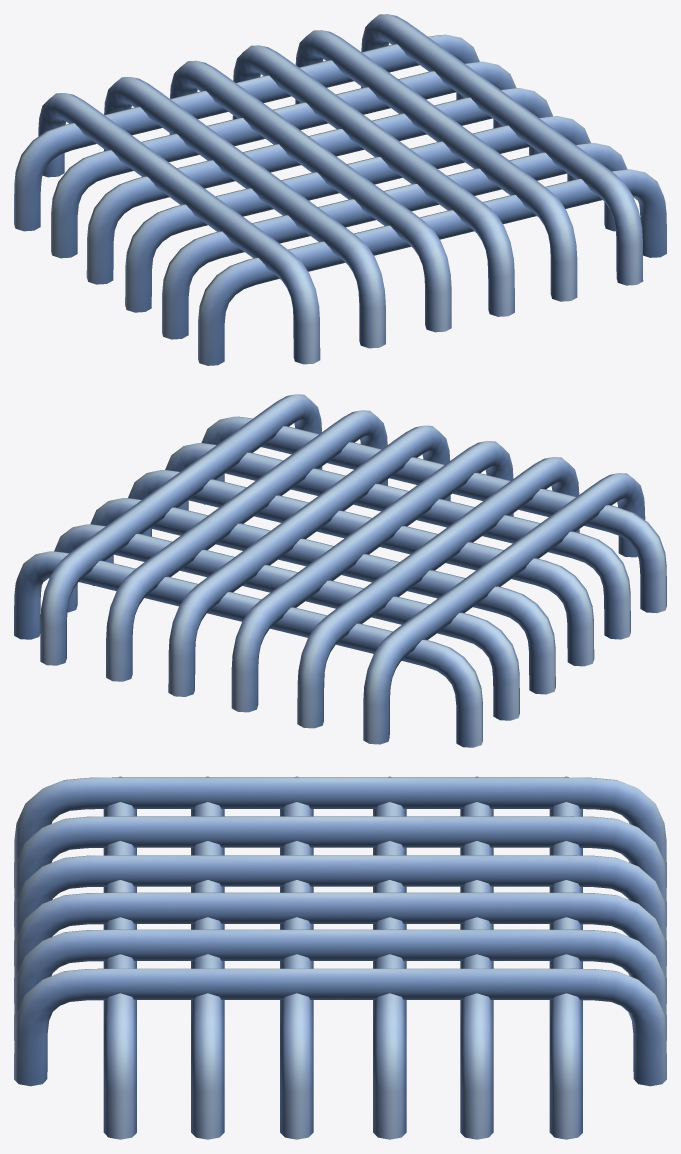
The model's file is Lock_Squares_3x3.fbx.
The picture shows the model from 3 angles, top to bottom: view 1: azimuth 30°, elevation 25°; view 2: azimuth 150°, elevation 25°; view 3: azimuth 270°, elevation 25°; orthographic projection. The views are drawn at different scales.
Visible parts, largest first — view 1: Lock_Squares_3x3; view 2: Lock_Squares_3x3; view 3: Lock_Squares_3x3.
Boxes of the visible parts, x1,y1,x2,y2 form: Lock_Squares_3x3: (14, 14, 666, 365); Lock_Squares_3x3: (14, 394, 666, 747); Lock_Squares_3x3: (14, 776, 666, 1139).
Size of the model in its own units: 3.32 by 0.7149 by 3.32.
